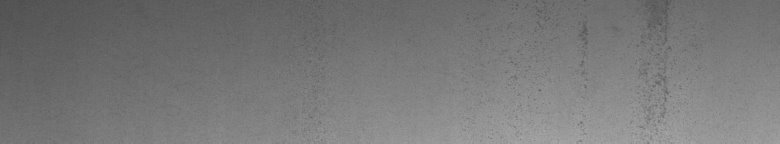ib: (536, 8, 671, 128)
